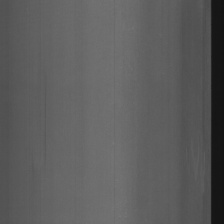silk_spot: (188, 131, 207, 190)
